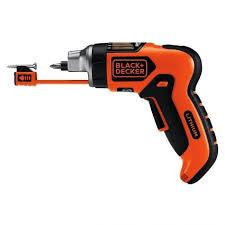screwdriver: (60, 40, 219, 184), (48, 59, 60, 70)
